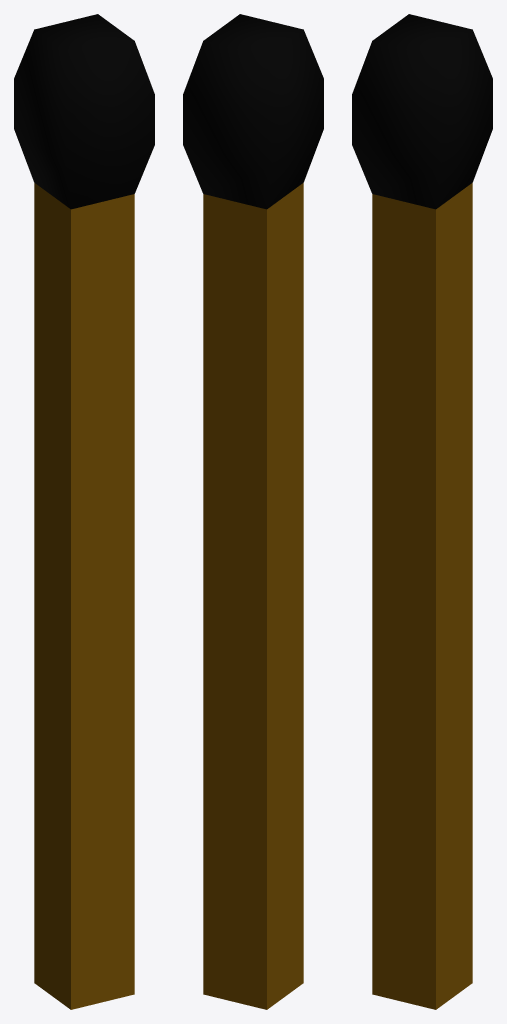
File: BurningMatch.fbx
3 views of the same model, side by side, from view 1: azimuth 30°, elevation 25°; view 2: azimuth 150°, elevation 25°; view 3: azimuth 330°, elevation 25° (orthographic).
Visible parts, largest first — view 1: Match:pCube1; view 2: Match:pCube1; view 3: Match:pCube1.
Boxes of the visible parts, <box> form: Match:pCube1: <box>14,14,154,1009</box>; Match:pCube1: <box>183,14,323,1009</box>; Match:pCube1: <box>352,14,492,1009</box>.
Size of the model in its own units: 0.07 by 0.7147 by 0.07.
